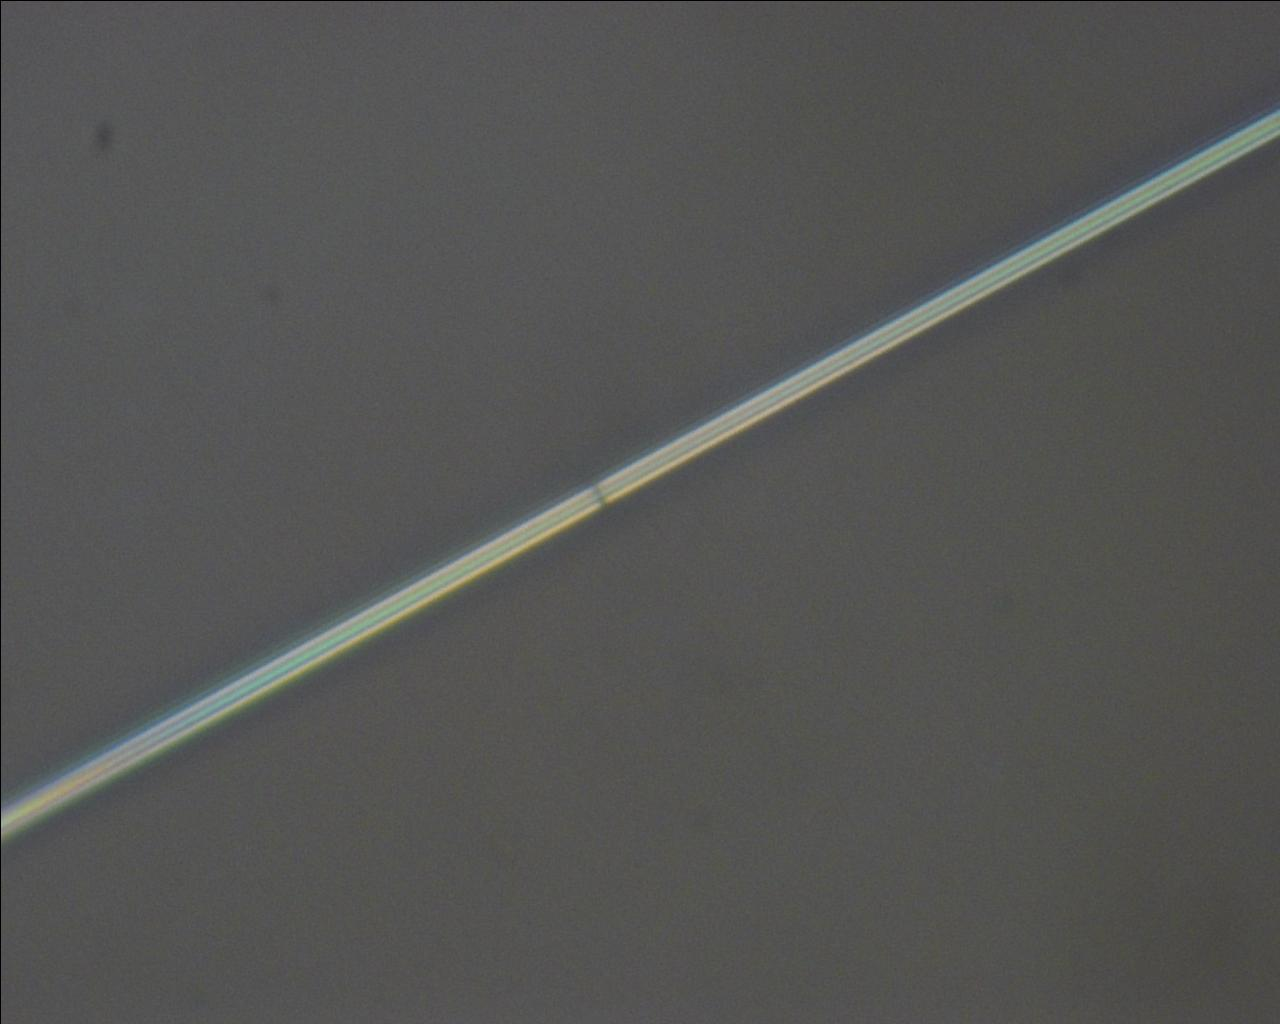fiber: (0, 103, 1280, 841)
